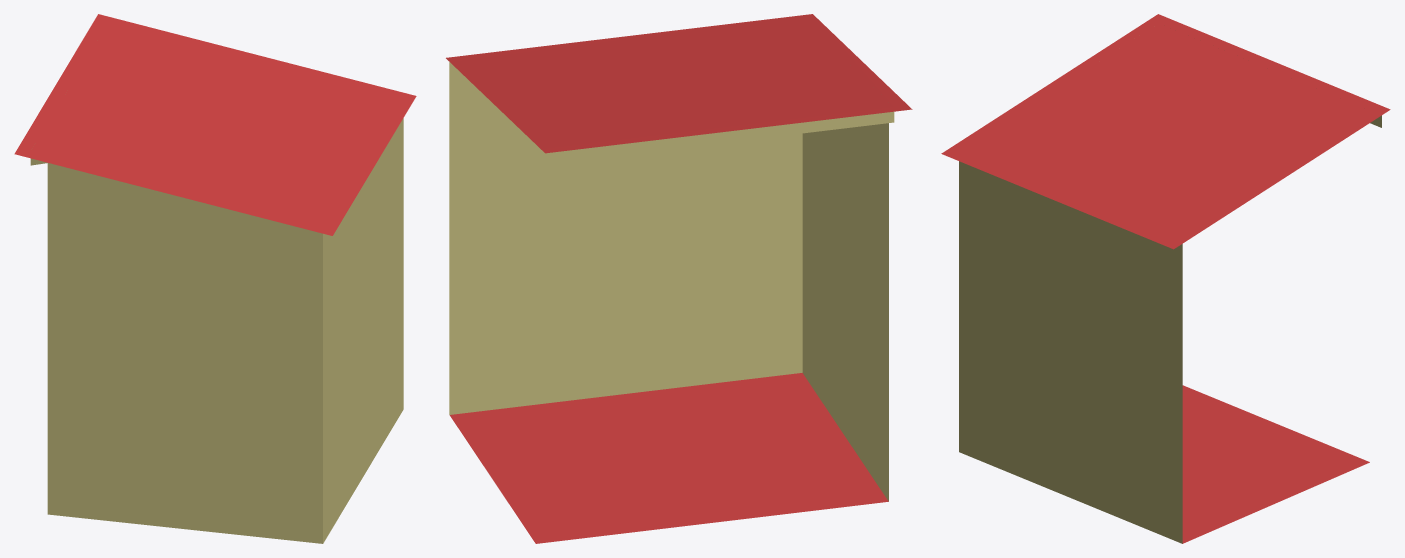
3 renders of one model, left to right at view 1: azimuth 30°, elevation 25°; view 2: azimuth 150°, elevation 25°; view 3: azimuth 270°, elevation 25°, orthographic. The views are drawn at different scales.
Size of the model in its own units: 8.92 by 8.93 by 7.53.
